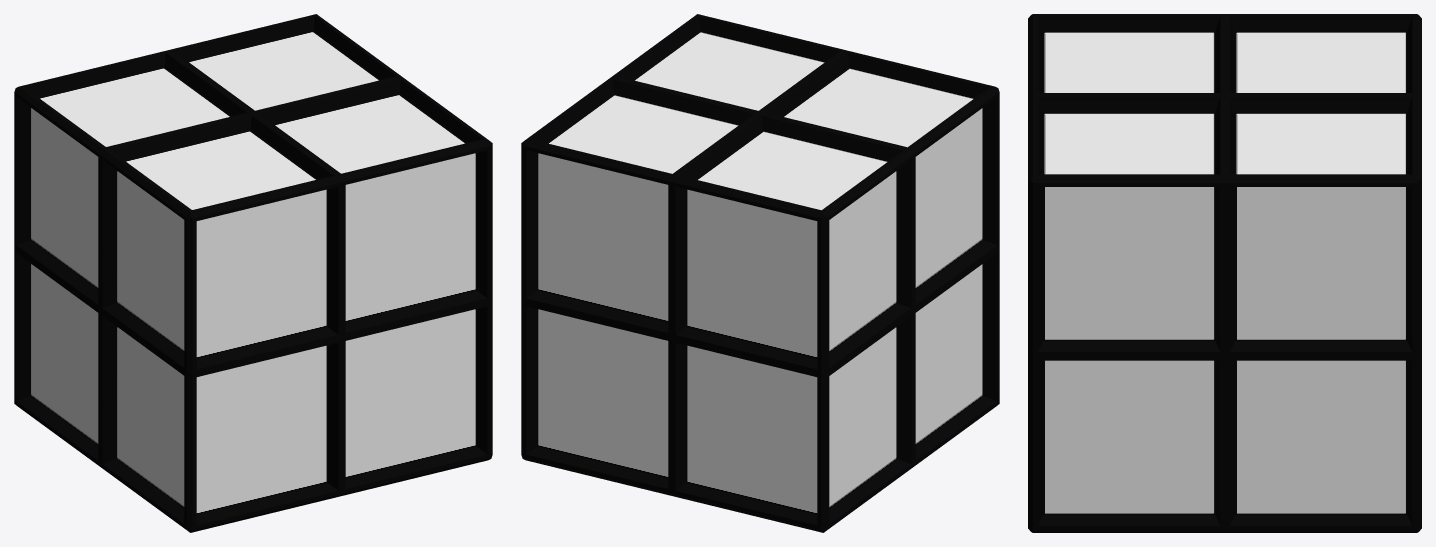
Rendered from Enemy 3.fbx.
3 views of the same model, side by side, from view 1: azimuth 30°, elevation 25°; view 2: azimuth 150°, elevation 25°; view 3: azimuth 270°, elevation 25° (orthographic). The views are drawn at different scales.
Parts seen in each view (by area): view 1: Enemy 3; view 2: Enemy 3; view 3: Enemy 3.
Boxes of the visible parts, x1,y1,x2,y2 form: Enemy 3: [14, 14, 492, 532]; Enemy 3: [521, 14, 999, 532]; Enemy 3: [1028, 14, 1421, 532].
Bounding box in the file's own units: 390 × 390 × 390.
